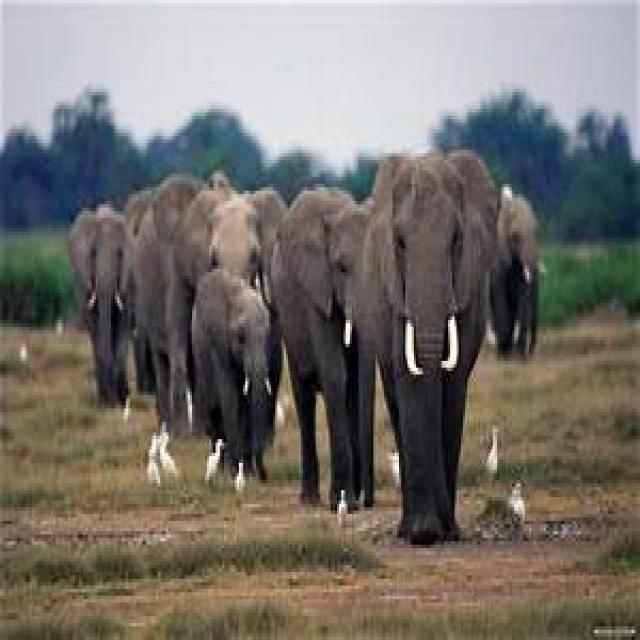elephant: (354, 150, 499, 548), (275, 191, 369, 497), (192, 266, 282, 490), (66, 204, 151, 412)
